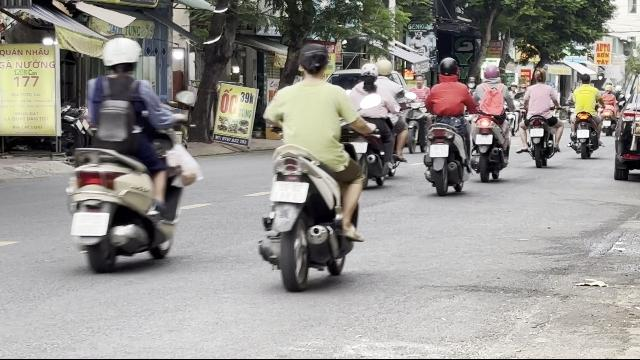helmet: (100, 36, 142, 76), (436, 56, 459, 80), (359, 62, 377, 84), (376, 58, 392, 78)
licenseplate: (72, 212, 106, 234), (270, 182, 306, 202), (429, 145, 448, 157)
motorcyclist: (63, 35, 199, 272), (258, 42, 370, 288), (348, 59, 408, 187), (420, 55, 474, 194)
nohelmet: (297, 43, 331, 79)
